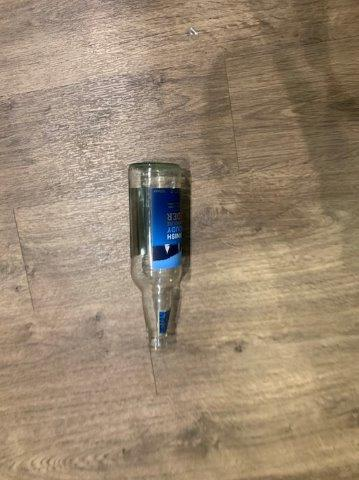botolkaca: (127, 163, 183, 349)
